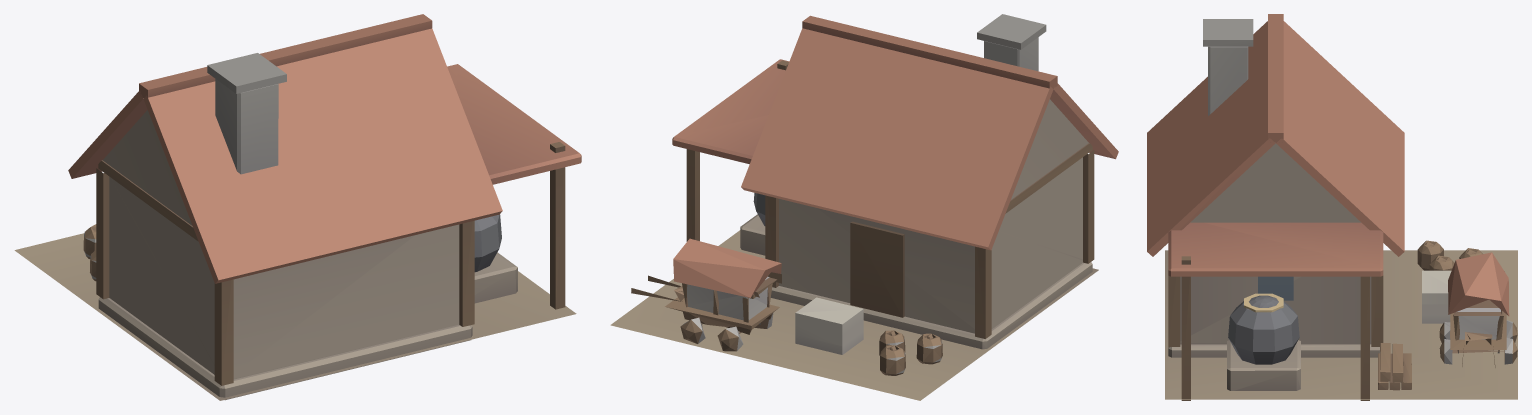
The model's file is rendering_house.glb.
The picture shows the model from 3 angles, left to right: view 1: azimuth 30°, elevation 25°; view 2: azimuth 150°, elevation 25°; view 3: azimuth 270°, elevation 25°; orthographic projection. The views are drawn at different scales.
Parts seen in each view (by area): view 1: rendering_house; view 2: rendering_house; view 3: rendering_house.
Part boxes in pixels (x1,y1,x2,y2): rendering_house: [14, 14, 581, 400]; rendering_house: [610, 14, 1118, 400]; rendering_house: [1147, 14, 1517, 400].
Bounding box in the file's own units: 3.13 × 2.31 × 3.11.
